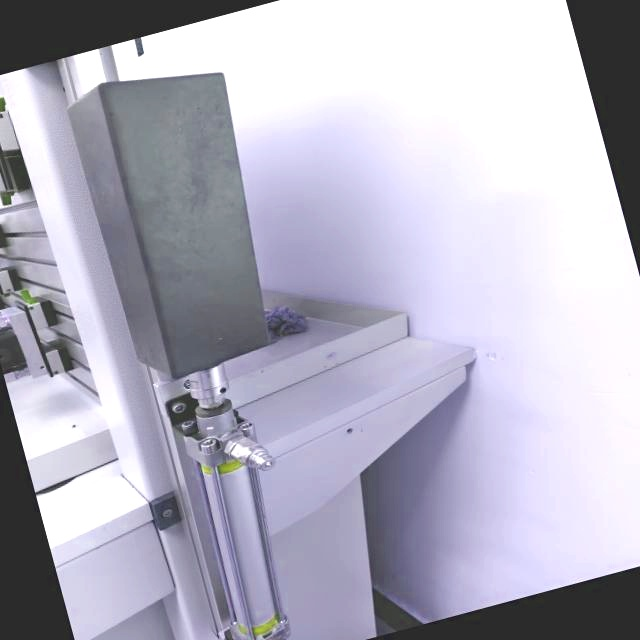load: (32, 29, 382, 640)
